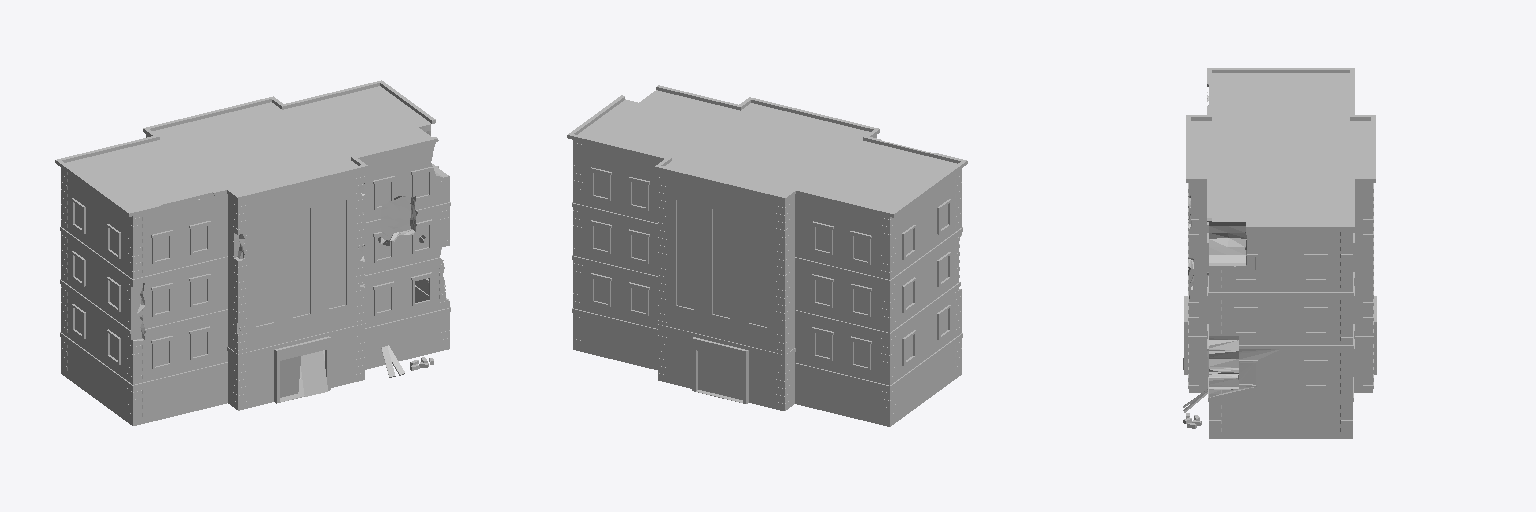
File: ruined_building.obj
3 renders of one model, left to right at view 1: azimuth 30°, elevation 25°; view 2: azimuth 150°, elevation 25°; view 3: azimuth 270°, elevation 25°, orthographic.
Size of the model in its own units: 30.94 by 19.68 by 16.